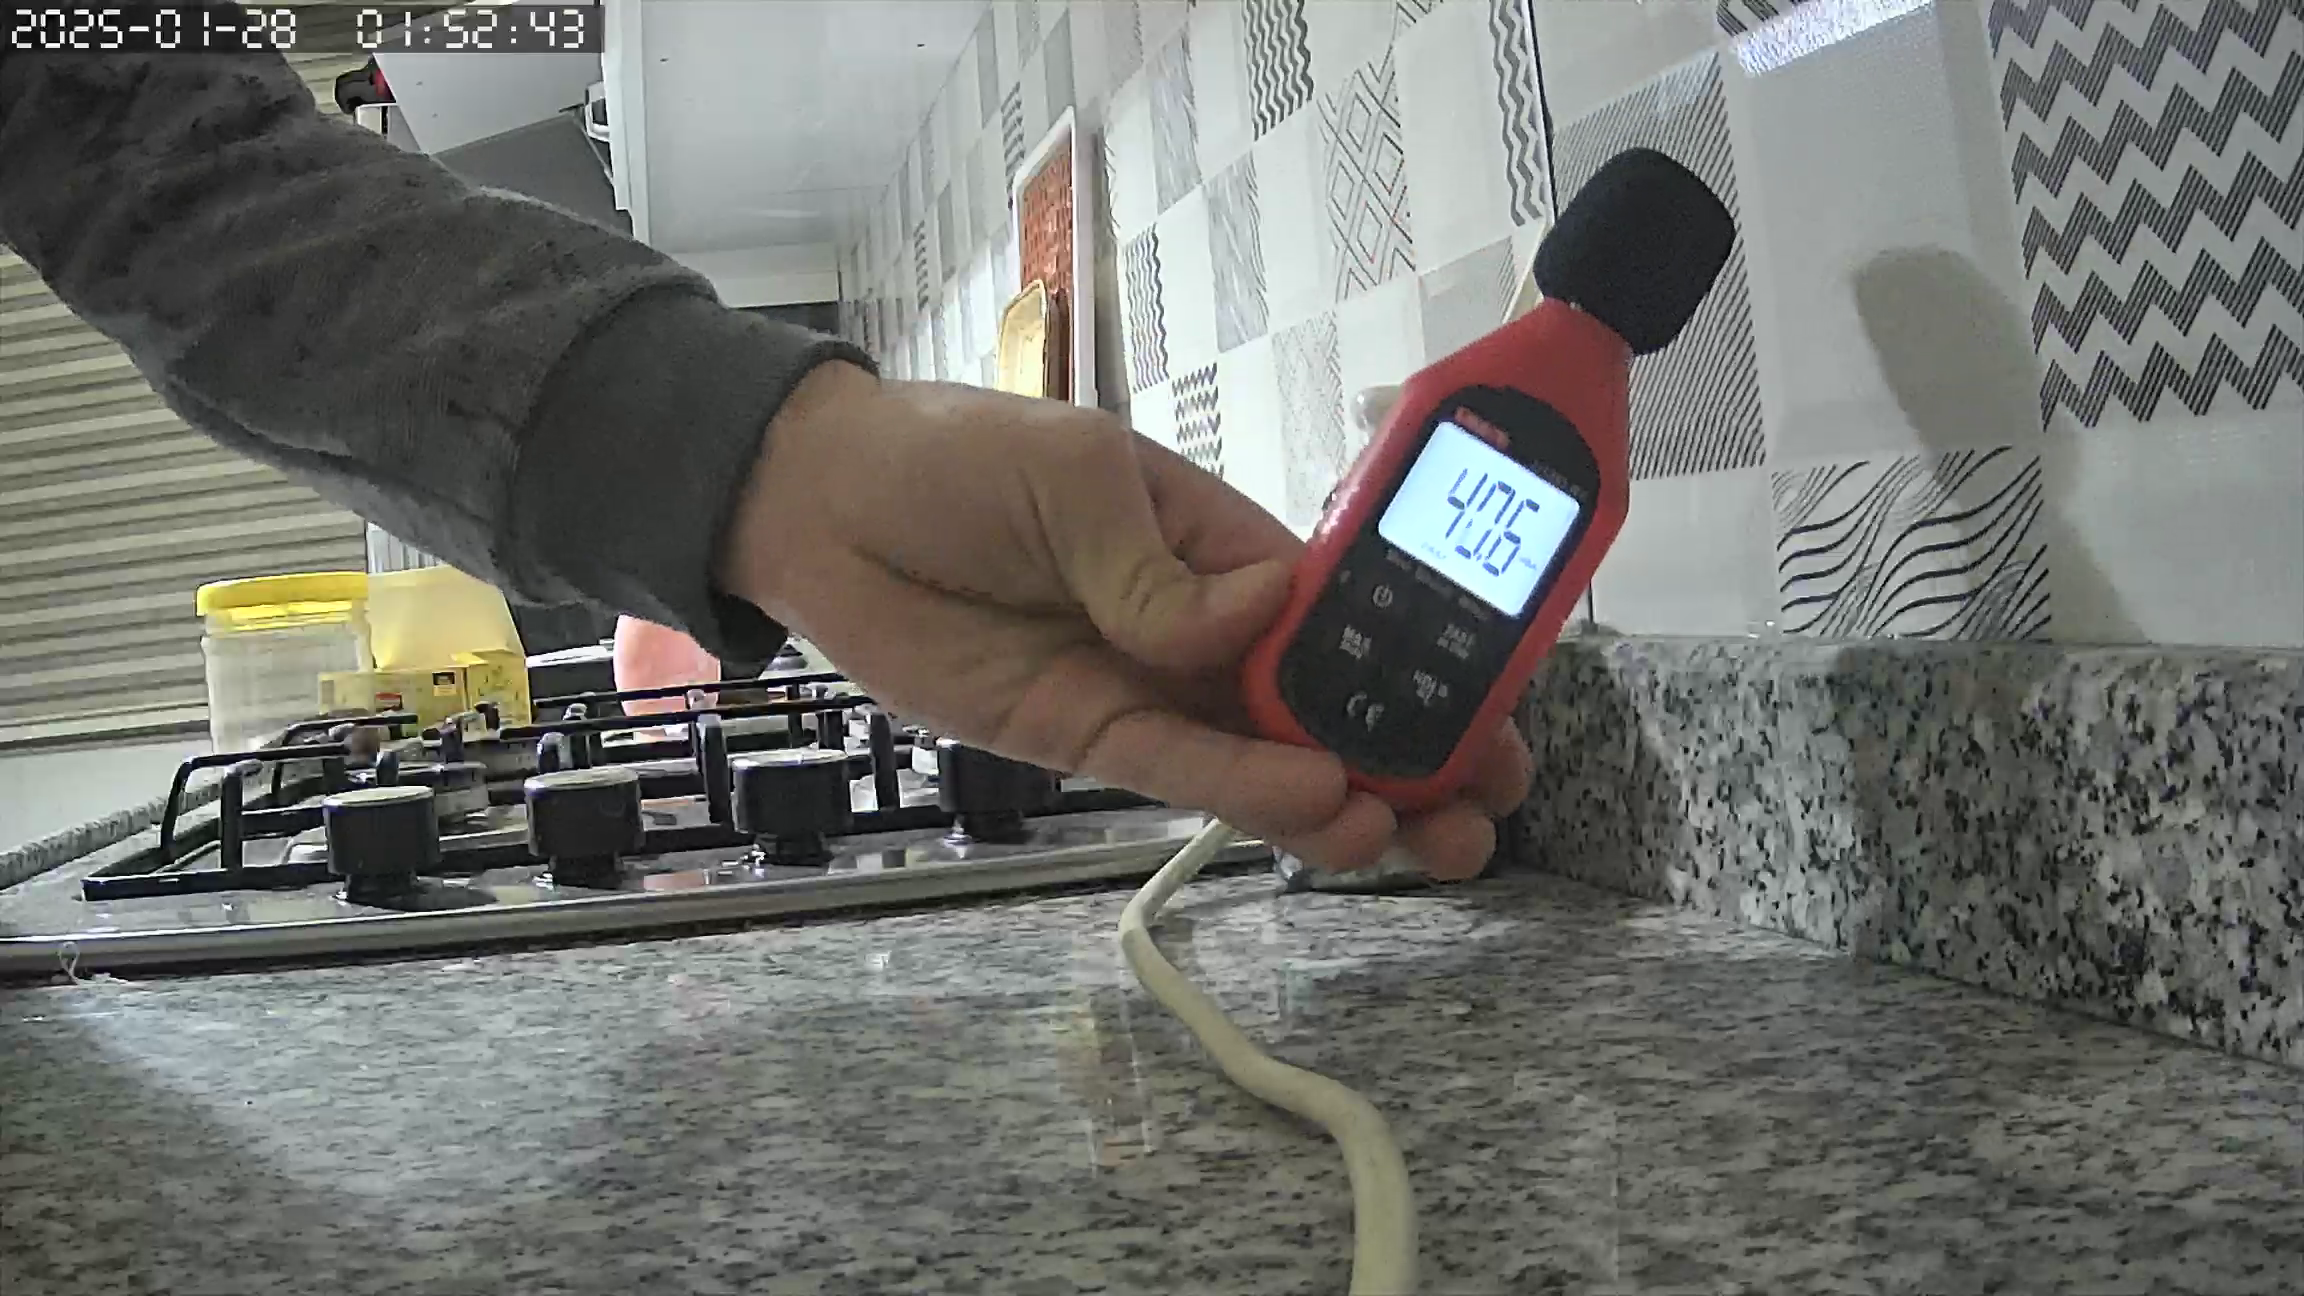screen: (1375, 421, 1581, 619)
